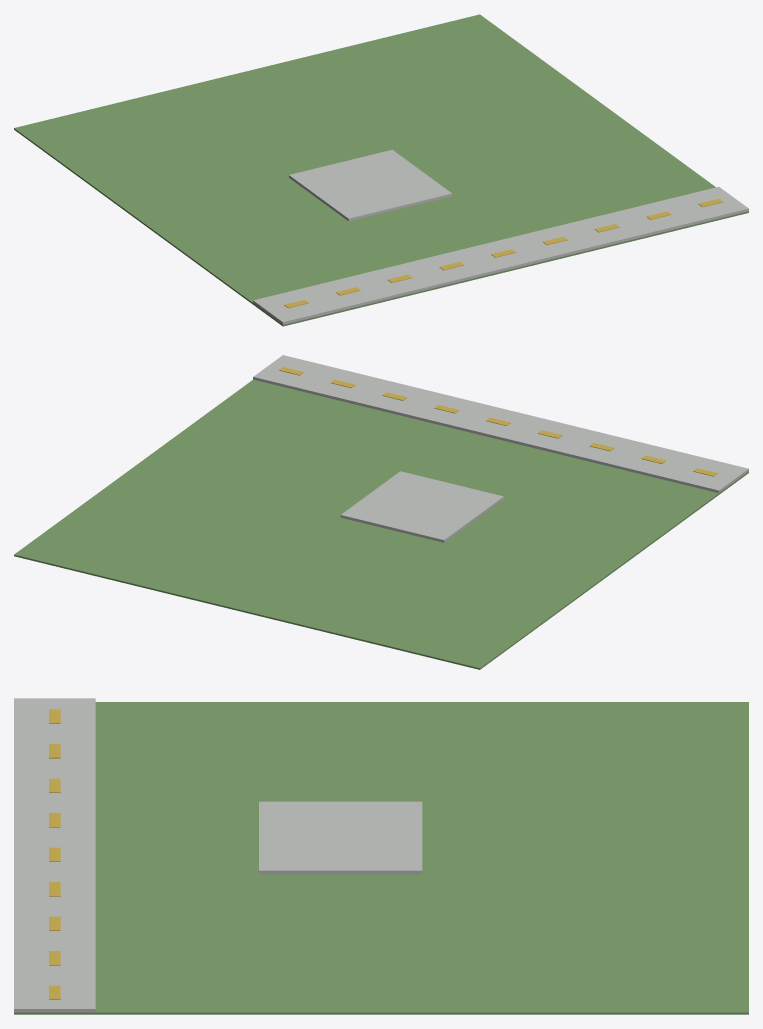
File: stage_01.glb
3 views of the same model, one above another, from view 1: azimuth 30°, elevation 25°; view 2: azimuth 150°, elevation 25°; view 3: azimuth 270°, elevation 25° (orthographic). The views are drawn at different scales.
Parts seen in each view (by area): view 1: geometry_0; view 2: geometry_0; view 3: geometry_0.
Boxes of the visible parts, x1,y1,x2,y2 form: geometry_0: [14, 14, 748, 326]; geometry_0: [14, 355, 748, 669]; geometry_0: [14, 698, 748, 1014].
Size of the model in its own units: 9 by 0.091 by 9.
